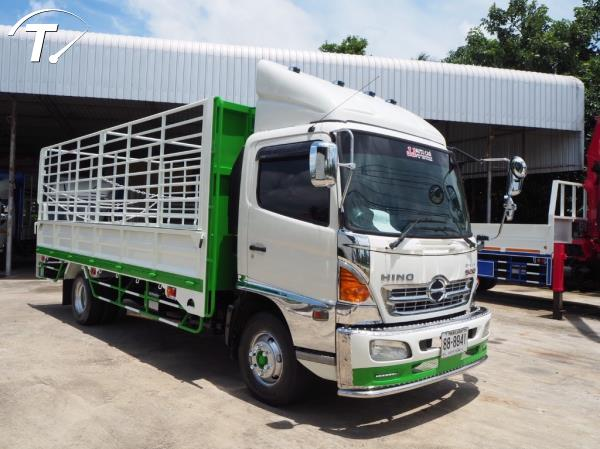truck: (34, 95, 490, 406)
